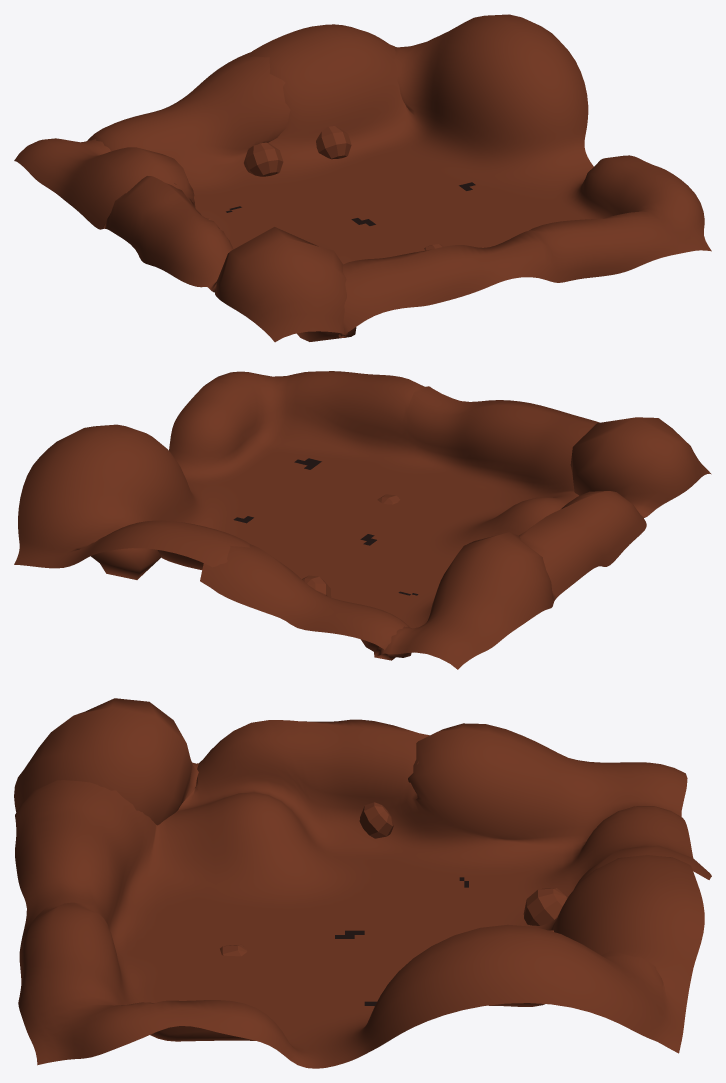
Rendered from MAP2.fbx.
3 views of the same model, one above another, from view 1: azimuth 30°, elevation 25°; view 2: azimuth 150°, elevation 25°; view 3: azimuth 270°, elevation 25° (orthographic). The views are drawn at different scales.
Visible parts, largest first — view 1: Plane; view 2: Plane; view 3: Plane.
Part boxes in pixels (box(x1,y1,x2,y2)): Plane: box(14, 14, 711, 342); Plane: box(14, 371, 711, 669); Plane: box(14, 698, 711, 1068).
Bounding box in the file's own units: 39724 × 10365 × 38776.
